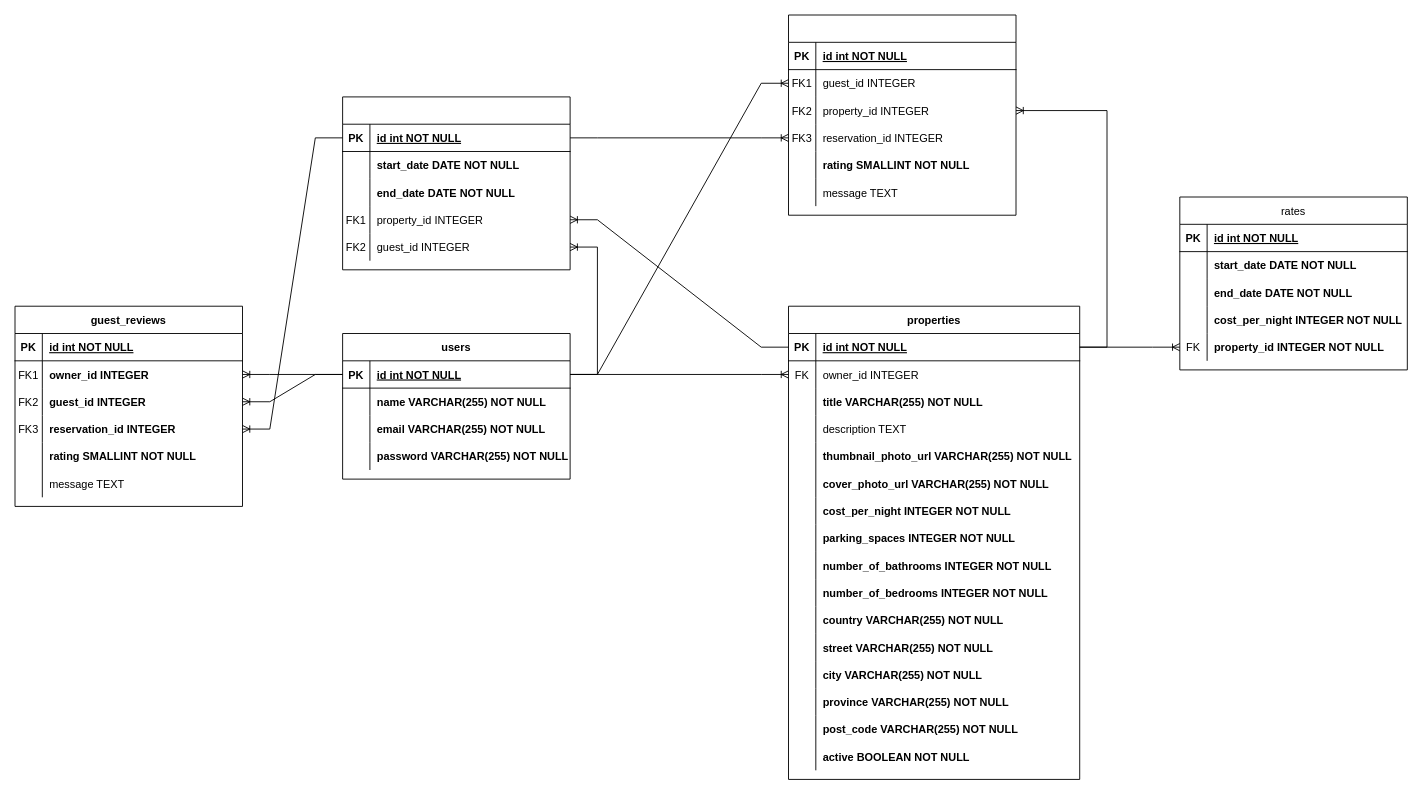
Image size: 1422x794. Some labels were removed from this diagram. Here are the shapes that lost their labels. From the top down, the box of each, then its label:
(788, 14, 1016, 215): property_reviews
(342, 96, 570, 270): reservations
